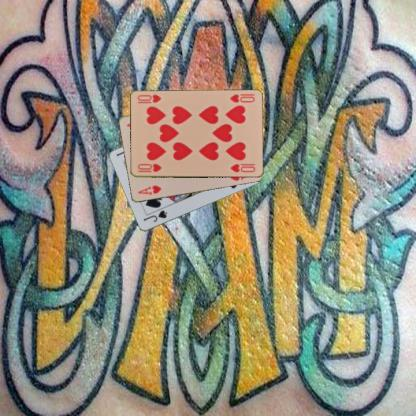10h: (227, 92, 255, 104), (136, 162, 162, 174)
Ah: (136, 182, 162, 196)
Js: (141, 208, 168, 224)
